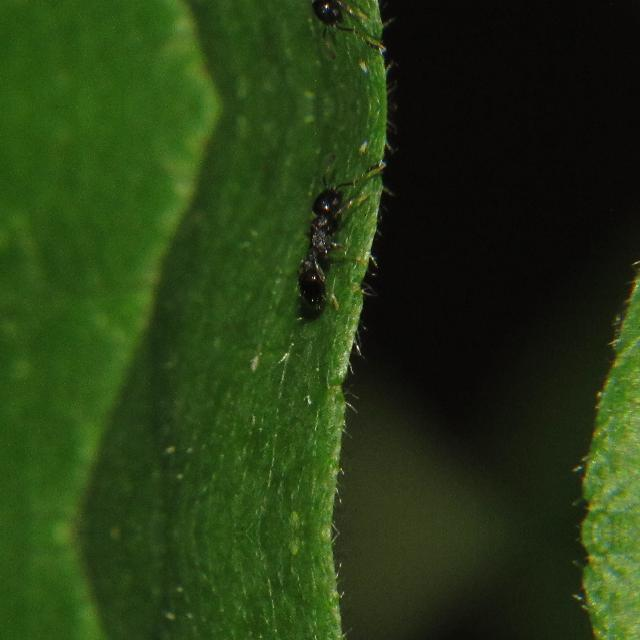Temnothorax: (284, 169, 368, 313), (284, 0, 368, 42)
